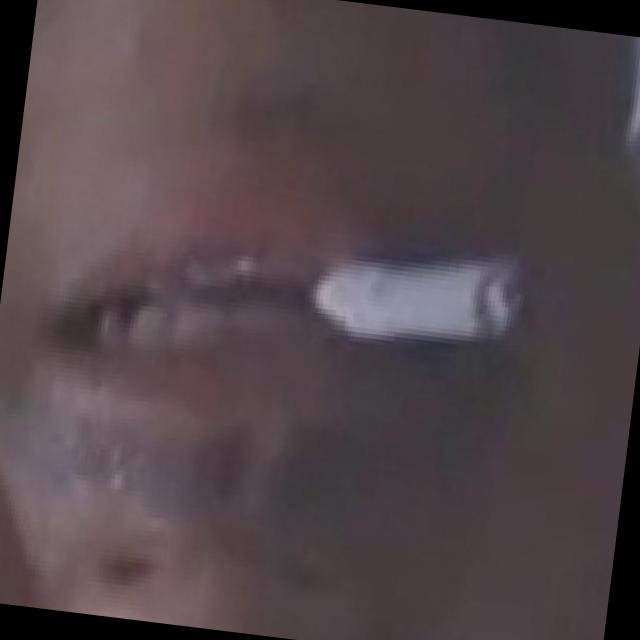smoke: (288, 220, 536, 380)
